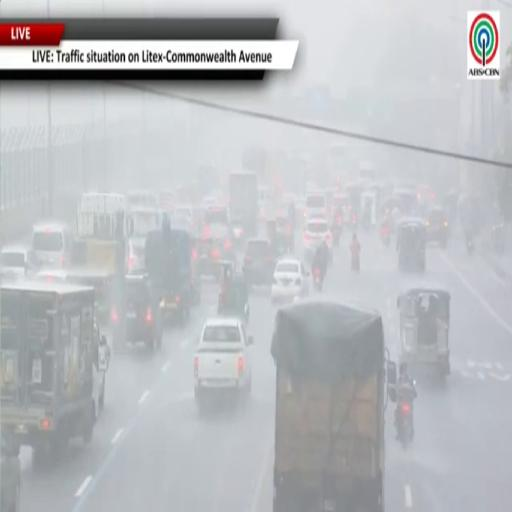car: (194, 317, 253, 408), (125, 275, 163, 350), (198, 223, 235, 277), (32, 222, 73, 267), (271, 259, 309, 303), (0, 429, 20, 511), (243, 238, 275, 285), (0, 246, 40, 278), (303, 218, 332, 258), (130, 206, 161, 243), (426, 207, 449, 247), (128, 237, 145, 273), (306, 191, 327, 219), (171, 205, 194, 230), (204, 204, 228, 225)
motorcycle: (396, 400, 413, 447), (332, 215, 342, 246), (312, 268, 323, 292), (381, 228, 390, 247), (351, 252, 359, 273), (466, 236, 474, 254), (351, 214, 357, 230)
truck: (271, 300, 386, 511), (0, 281, 109, 465), (72, 192, 134, 319), (145, 223, 197, 324), (229, 171, 258, 235)
